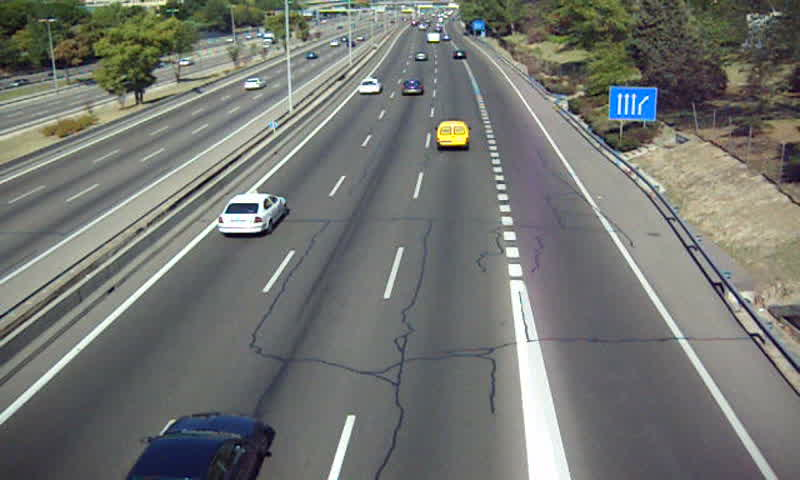car: (217, 193, 286, 234), (401, 79, 424, 97), (357, 78, 381, 94), (415, 50, 429, 64)
van: (436, 120, 470, 150)
